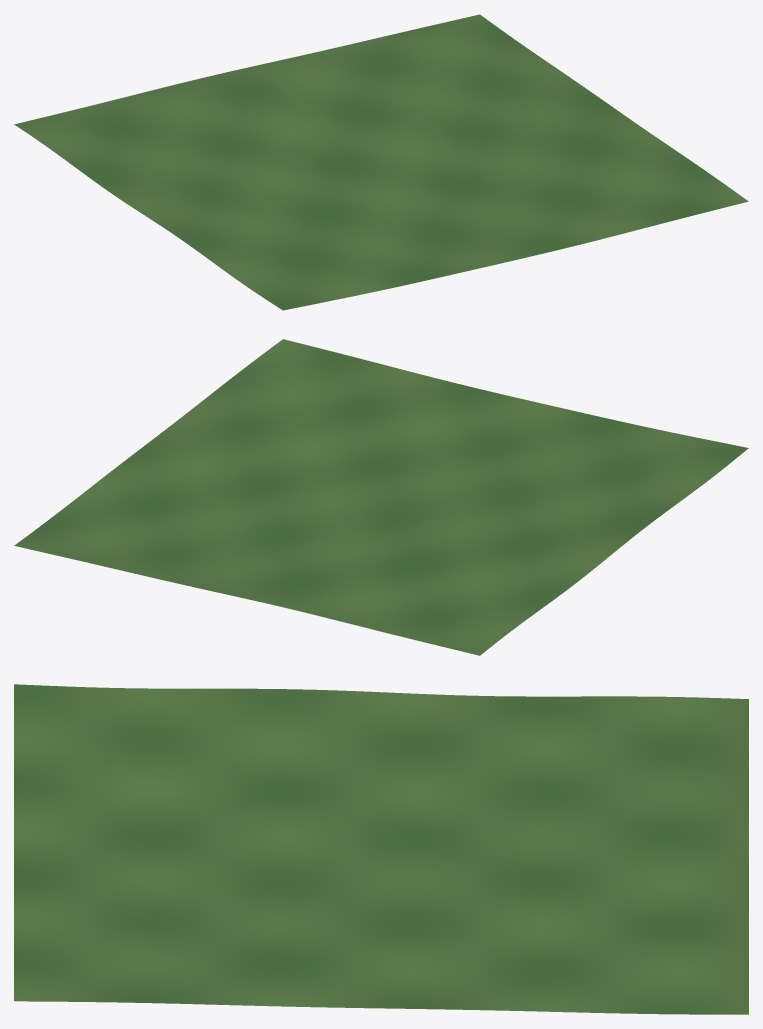
File: chunk_3_7.glb
3 renders of one model, top to bottom at view 1: azimuth 30°, elevation 25°; view 2: azimuth 150°, elevation 25°; view 3: azimuth 270°, elevation 25°, orthographic. The views are drawn at different scales.
Size of the model in its own units: 512 by 15.18 by 512.
